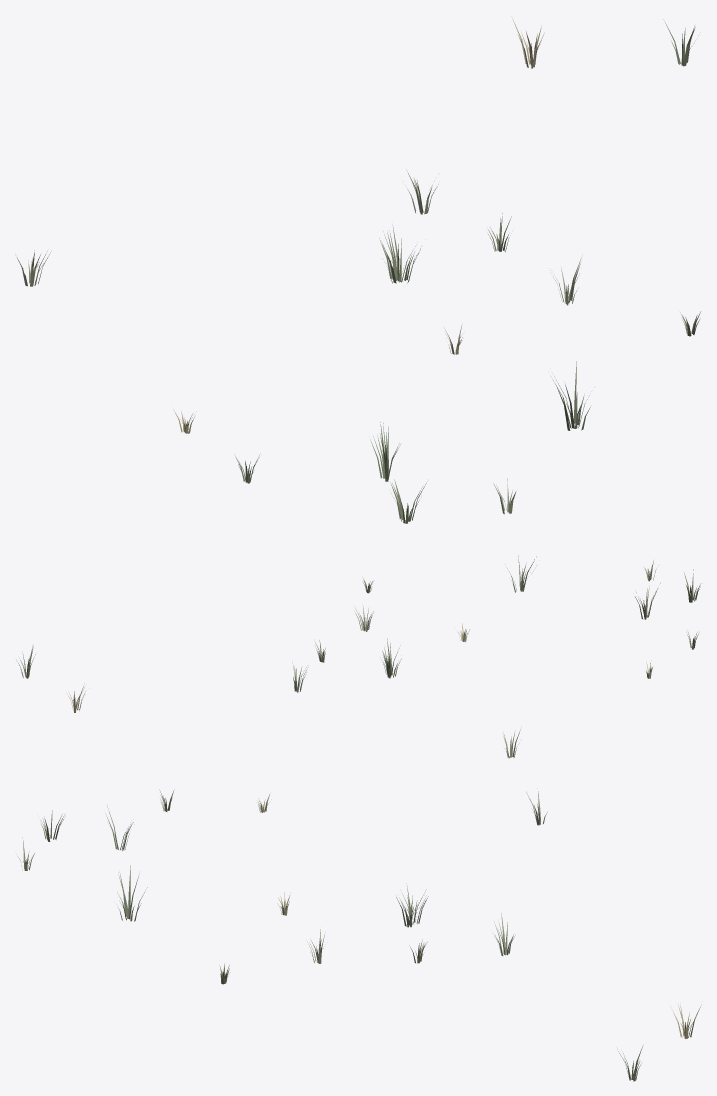
Rendered from AE_Grass_3_2.fbx.
3 renders of one model, top to bottom at view 1: azimuth 30°, elevation 25°; view 2: azimuth 150°, elevation 25°; view 3: azimuth 270°, elevation 25°, orthographic. The views are drawn at different scales.
Visible parts, largest first — view 1: AE_Grass_3_2_LOD0; view 2: AE_Grass_3_2_LOD0; view 3: AE_Grass_3_2_LOD0.
Boxes of the visible parts, left/top/right/bottom form: AE_Grass_3_2_LOD0: left=17, top=16, right=700, bottom=523; AE_Grass_3_2_LOD0: left=16, top=555, right=700, bottom=758; AE_Grass_3_2_LOD0: left=18, top=788, right=701, bottom=1081.
Size of what is drawn, in the model's own units: 1232 by 97.86 by 1287.
